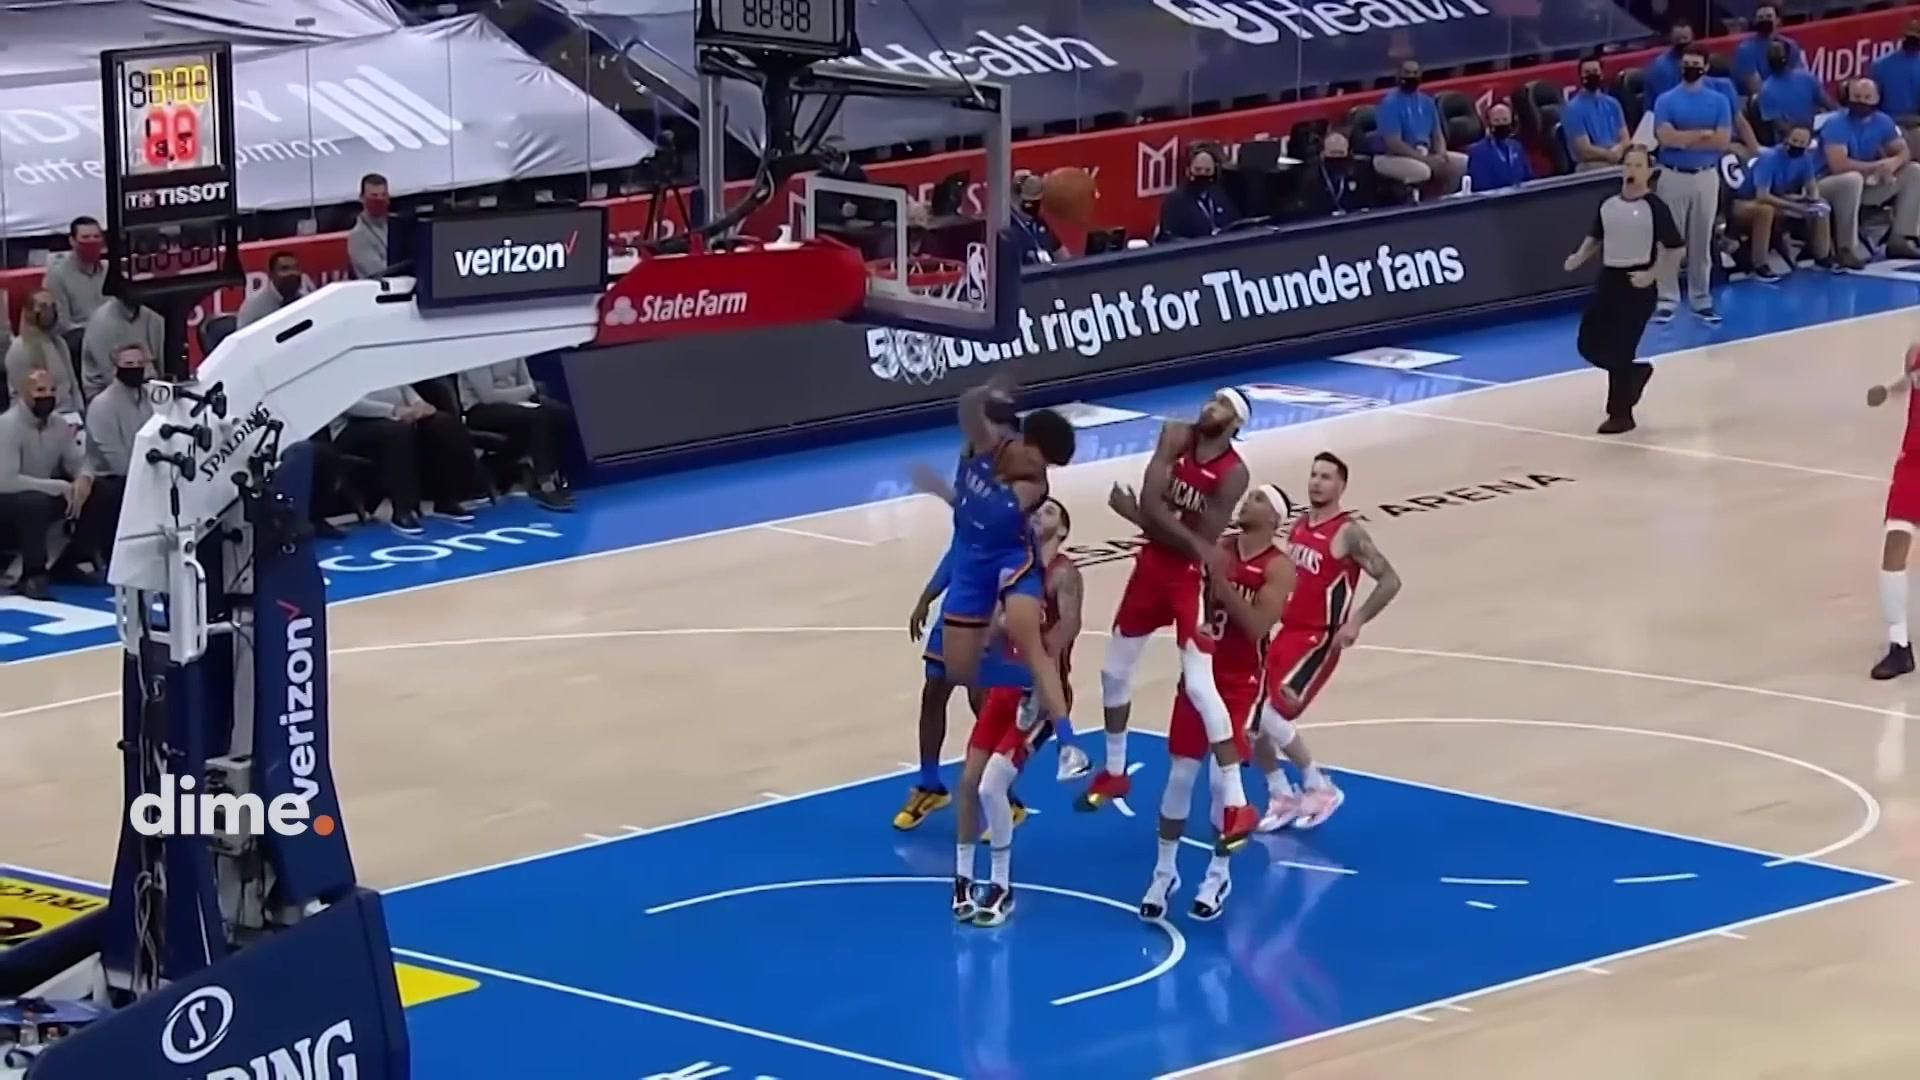no_foul: (916, 368, 1080, 899)
